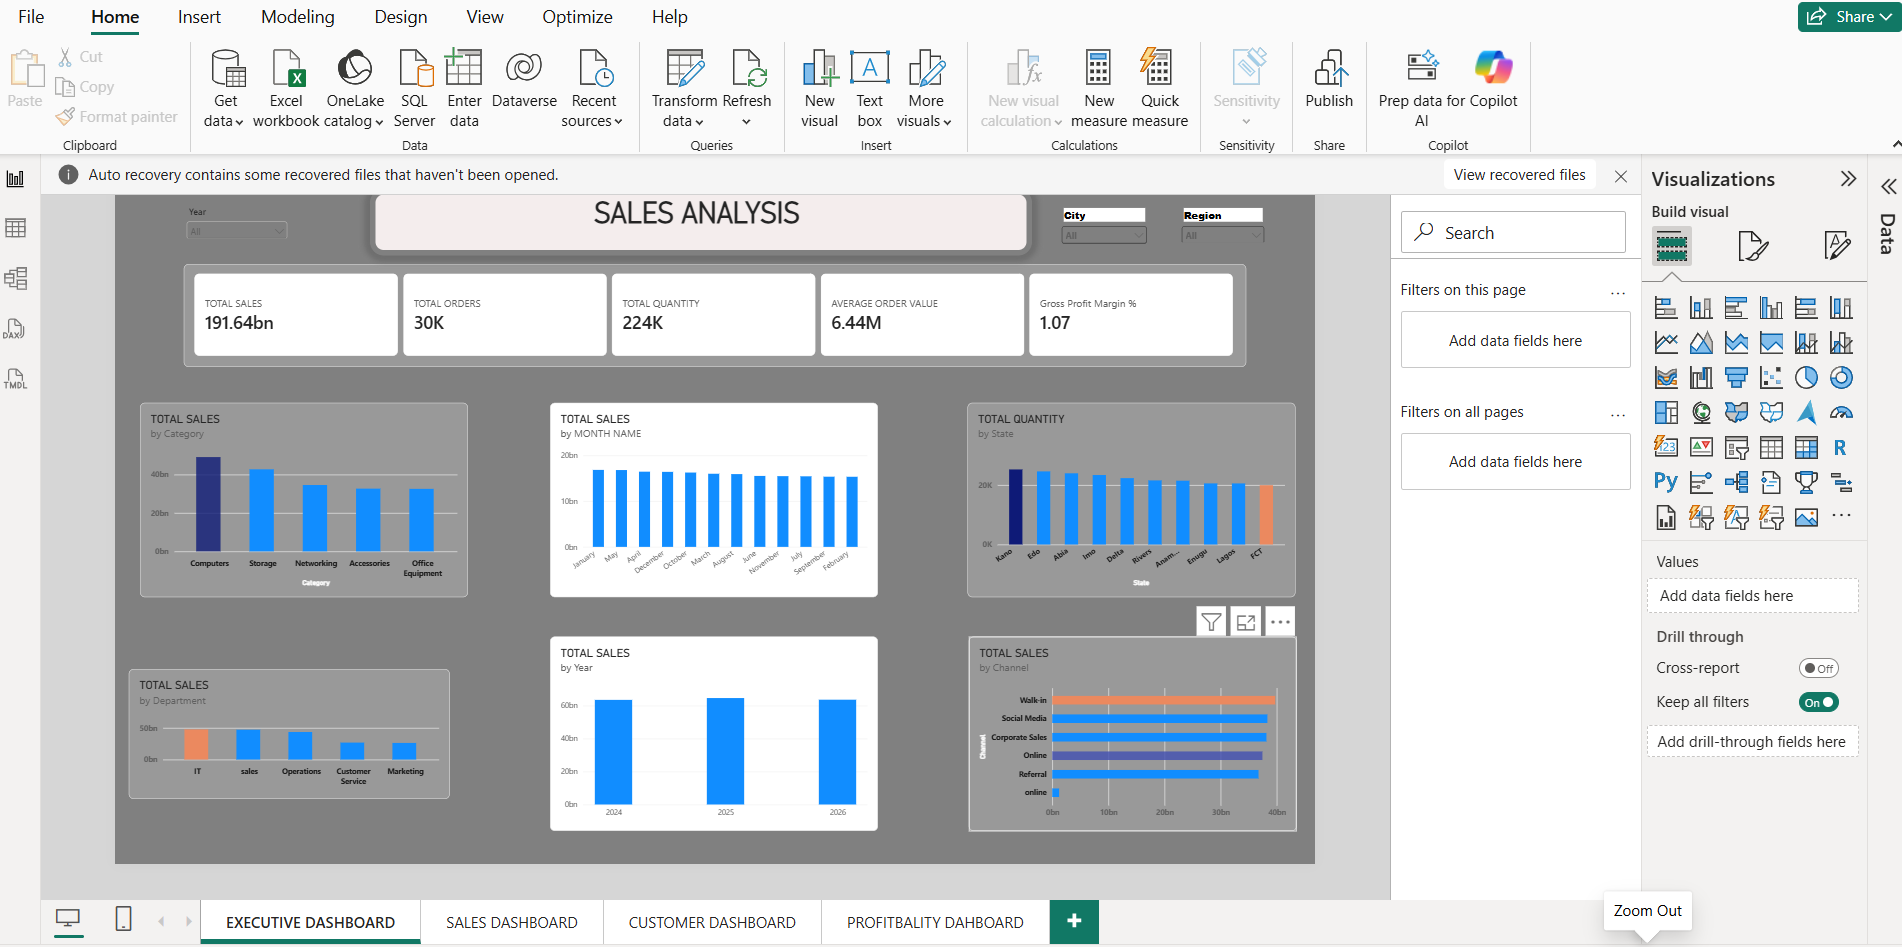

The dashboard page shown, as its layout file describes it:
{"tool":"powerbi","page":{"name":"EXECUTIVE DASHBOARD ","canvas":[1920,1080],"ordinal":0},"visuals":[{"type":"cardVisual","fields":{"Data":["DATE.Total sale","DATE.TOTAL COST","DATE.TOTAL QUANTITY","DATE.AVERAGE ORDER VALUE","DATE.Gross Profit Margin %"]},"box":[109.1,119.4,1700.2,164.7],"z":0},{"type":"textbox","box":[408,0,1059,106],"z":1000},{"type":"slicer","fields":{"Values":["Dim_Customers.City"]},"box":[1510.8,30.9,146.1,59.7],"z":2000},{"type":"slicer","fields":{"Values":["Dim_Customers.Region"]},"box":[1702.2,30.9,142,55.6],"z":3000},{"type":"slicer","fields":{"Values":["Dim_Date.Year"]},"box":[109.1,28.8,170.8,51.5],"z":4000},{"type":"clusteredColumnChart","fields":{"Category":["Dim_Products.Category"],"Y":["DATE.TOTAL SALES"]},"box":[39.1,341.7,524.9,310.8],"z":5000},{"type":"clusteredColumnChart","fields":{"Category":["Dim_Customers.State"],"Y":["DATE.TOTAL QUANTITY"]},"box":[1364.7,341.7,524.9,310.8],"z":6000},{"type":"columnChart","fields":{"Category":["DATE.MONTH NAME"],"Y":["DATE.TOTAL SALES"]},"box":[695.7,341.7,524.9,310.8],"z":7000},{"type":"columnChart","fields":{"Category":["Dim_Employees.Department"],"Y":["DATE.TOTAL SALES"]},"box":[39.1,716.3,525,311],"z":8000},{"type":"columnChart","fields":{"Category":["DATE.Year"],"Y":["DATE.TOTAL SALES"]},"box":[696,716,525,311],"z":9000},{"type":"clusteredBarChart","fields":{"Category":["Fact_Sales.Channel"],"Y":["DATE.TOTAL SALES"]},"box":[1365,716,525,311],"z":10000}]}

Visuals, with their boxes on the page's 1920x1080 design canvas (x1, y1, x2, y2). These are canvas units, not pixel positions in the 1902x947 screenshot, which may show the page scaled, cropped or inside an application window:
cardVisual - DATE.Total sale x DATE.TOTAL COST: left=109, top=119, right=1809, bottom=284
textbox: left=408, top=0, right=1467, bottom=106
slicer - Dim_Customers.City: left=1511, top=31, right=1657, bottom=91
slicer - Dim_Customers.Region: left=1702, top=31, right=1844, bottom=86
slicer - Dim_Date.Year: left=109, top=29, right=280, bottom=80
clusteredColumnChart - Dim_Products.Category x DATE.TOTAL SALES: left=39, top=342, right=564, bottom=652
clusteredColumnChart - Dim_Customers.State x DATE.TOTAL QUANTITY: left=1365, top=342, right=1890, bottom=652
columnChart - DATE.MONTH NAME x DATE.TOTAL SALES: left=696, top=342, right=1221, bottom=652
columnChart - Dim_Employees.Department x DATE.TOTAL SALES: left=39, top=716, right=564, bottom=1027
columnChart - DATE.Year x DATE.TOTAL SALES: left=696, top=716, right=1221, bottom=1027
clusteredBarChart - Fact_Sales.Channel x DATE.TOTAL SALES: left=1365, top=716, right=1890, bottom=1027
